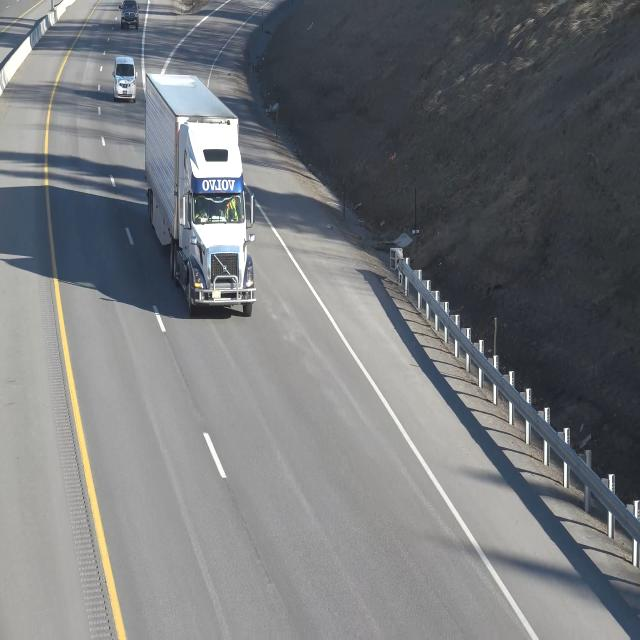Vehicle: (143, 71, 257, 321), (112, 51, 136, 107), (118, 0, 140, 31)
